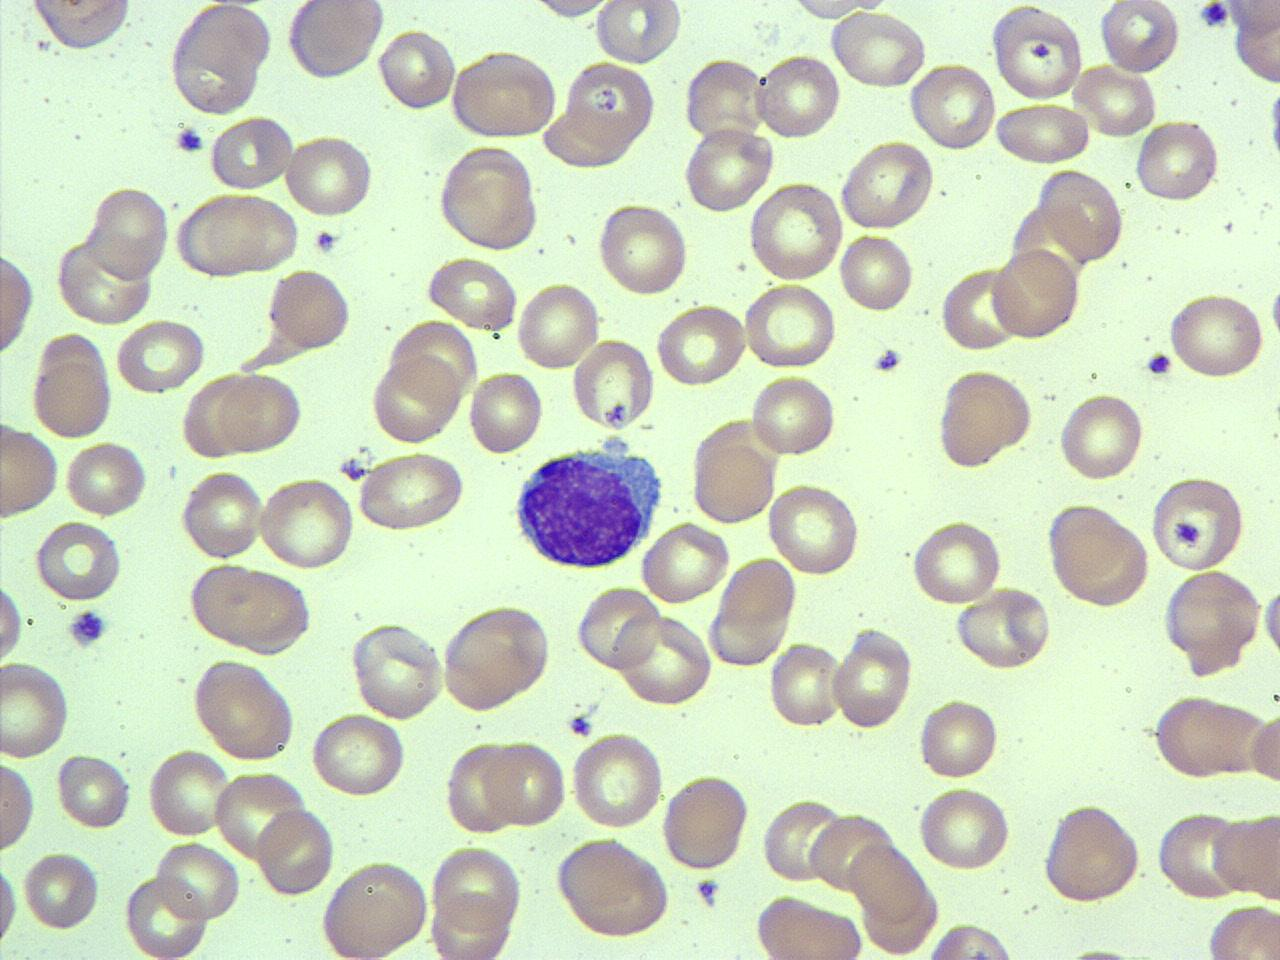Platelets: (65, 607, 109, 648), (1067, 940, 1135, 960), (1266, 84, 1280, 167), (175, 124, 207, 156), (1199, 2, 1233, 31), (336, 456, 370, 482), (1143, 350, 1173, 378), (872, 346, 902, 373), (563, 713, 595, 739), (312, 227, 340, 256), (692, 875, 720, 903)
RBC: (438, 601, 555, 714), (554, 834, 674, 942), (167, 2, 273, 117), (1044, 500, 1152, 609), (185, 562, 313, 652), (434, 143, 540, 252), (171, 191, 302, 278), (188, 658, 299, 761), (318, 857, 430, 959), (1146, 692, 1272, 781), (1159, 567, 1265, 671), (1040, 800, 1144, 906), (933, 367, 1036, 472), (447, 49, 560, 142), (687, 415, 780, 527), (348, 618, 444, 724), (748, 179, 845, 284), (1148, 473, 1248, 573), (594, 198, 692, 298), (354, 448, 468, 534), (765, 479, 863, 579), (614, 612, 716, 708), (429, 841, 526, 941), (990, 2, 1086, 102), (256, 475, 357, 571), (838, 137, 939, 232), (1166, 289, 1270, 382), (570, 728, 664, 830), (660, 770, 752, 874), (214, 766, 308, 866), (908, 516, 1008, 608), (368, 352, 465, 446), (830, 625, 916, 730), (988, 247, 1082, 342), (916, 783, 1014, 873), (1037, 166, 1127, 265), (952, 584, 1052, 672), (53, 238, 154, 324), (827, 6, 929, 91), (310, 710, 408, 798), (740, 282, 838, 370), (1056, 389, 1146, 484), (570, 334, 656, 433), (908, 59, 998, 153), (144, 745, 233, 840), (177, 466, 265, 562), (654, 301, 750, 388), (87, 183, 172, 280), (29, 340, 114, 439), (682, 124, 776, 213), (639, 518, 731, 608), (514, 280, 603, 373), (1155, 808, 1243, 902), (284, 1, 386, 81), (214, 369, 306, 456), (1132, 116, 1222, 205), (755, 50, 843, 141), (284, 132, 376, 219), (562, 59, 658, 142), (255, 802, 337, 898), (748, 372, 838, 460), (32, 518, 125, 603), (122, 871, 210, 960), (574, 582, 662, 671), (752, 892, 866, 960), (916, 694, 1002, 784), (760, 795, 845, 885), (766, 638, 846, 733), (0, 657, 72, 762), (682, 54, 766, 143), (486, 737, 566, 829), (113, 316, 207, 394), (154, 839, 242, 923), (375, 26, 459, 114), (266, 265, 352, 350), (20, 846, 103, 934), (424, 254, 520, 330), (466, 368, 546, 458), (179, 372, 260, 460), (443, 738, 517, 834), (61, 438, 148, 518), (938, 264, 1018, 352), (206, 114, 294, 193), (837, 229, 916, 316), (1210, 807, 1280, 905), (1073, 61, 1159, 138), (428, 884, 516, 960), (850, 836, 930, 918), (55, 750, 134, 833), (991, 101, 1093, 164), (0, 419, 62, 522), (1096, 0, 1180, 75), (592, 0, 684, 65), (27, 0, 135, 52), (1202, 898, 1280, 960), (0, 246, 37, 359), (1230, 9, 1280, 85), (0, 758, 38, 853), (924, 921, 1018, 959), (1247, 702, 1279, 794), (0, 568, 25, 670), (0, 847, 21, 960), (522, 0, 619, 23), (1226, 0, 1280, 35)
WBC: (508, 431, 668, 574), (1267, 79, 1280, 171)
